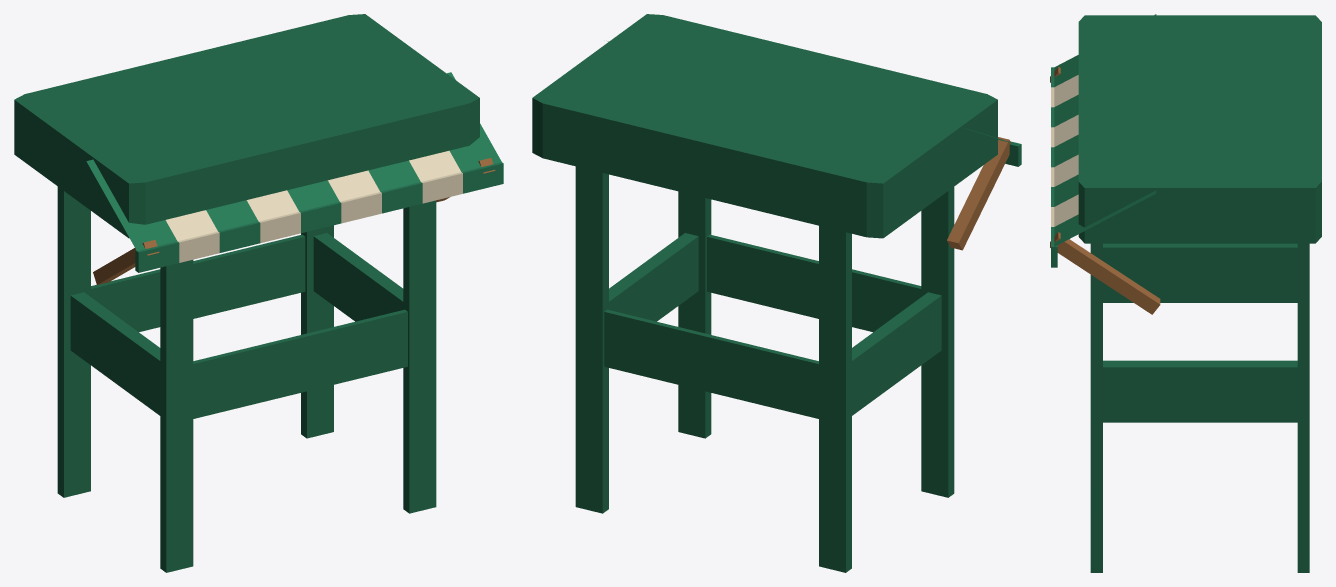
Rendered from market-stall-mint.glb.
The picture shows the model from 3 angles, left to right: view 1: azimuth 30°, elevation 25°; view 2: azimuth 150°, elevation 25°; view 3: azimuth 270°, elevation 25°; orthographic projection.
Parts seen in each view (by area): view 1: market-stall-mint; view 2: market-stall-mint; view 3: market-stall-mint.
Boxes of the visible parts, x1=… form: market-stall-mint: x1=14, y1=14, x2=503, y2=572; market-stall-mint: x1=532, y1=14, x2=1021, y2=572; market-stall-mint: x1=1050, y1=14, x2=1321, y2=572.
Size of the model in its own units: 2.24 by 2.35 by 1.43.
